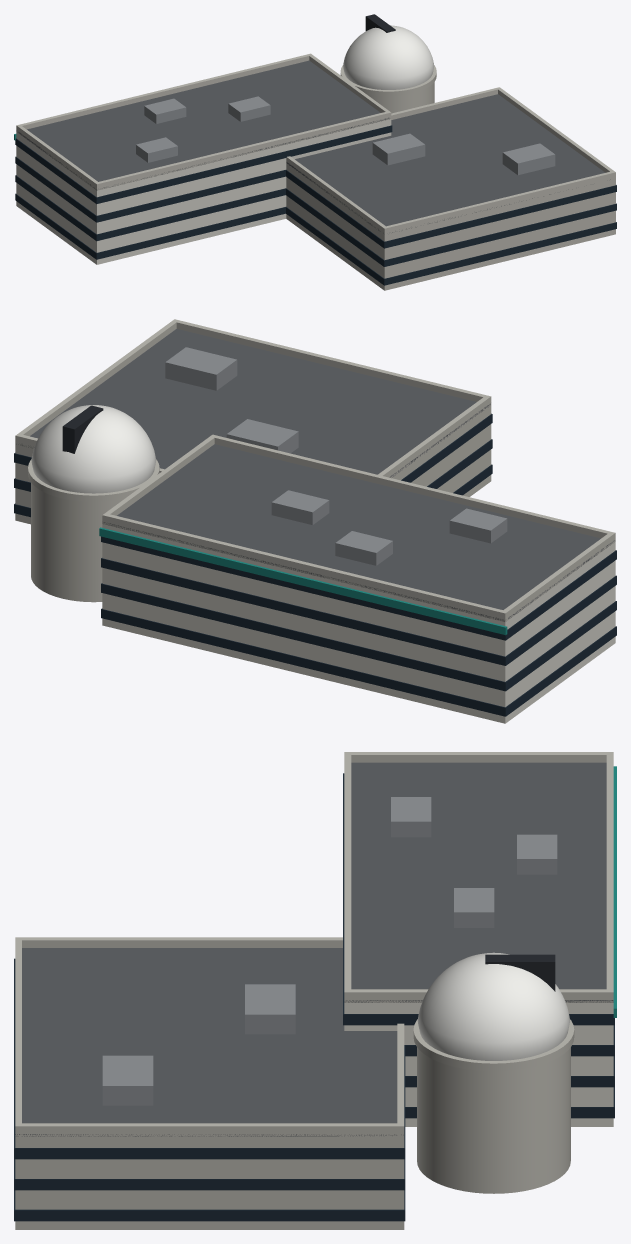
Rendered from research.glb.
3 views of the same model, one above another, from view 1: azimuth 30°, elevation 25°; view 2: azimuth 150°, elevation 25°; view 3: azimuth 270°, elevation 25° (orthographic). The views are drawn at different scales.
Parts seen in each view (by area): view 1: Research; view 2: Research; view 3: Research.
Part boxes in pixels (x1,y1,x2,y2): Research: (14, 14, 616, 290); Research: (14, 319, 616, 723); Research: (14, 752, 616, 1229).
Bounding box in the file's own units: 95.45 × 26.2 × 70.55.
